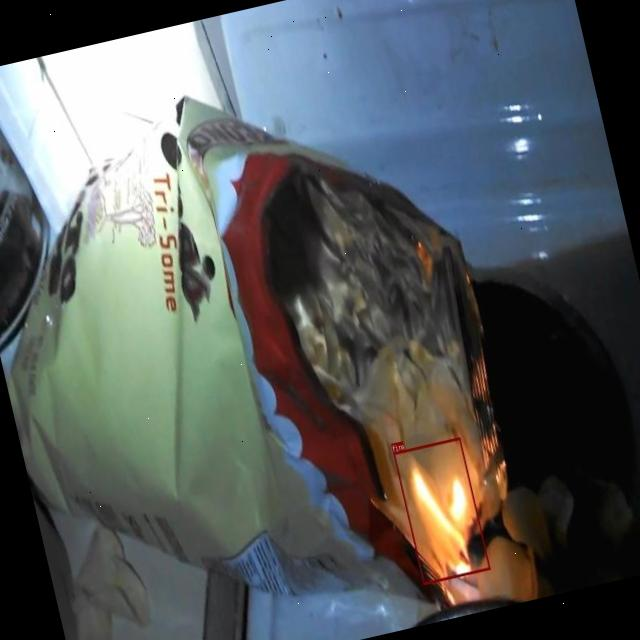fire: (392, 436, 490, 584)
